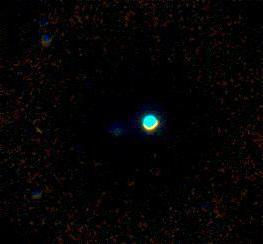star: (23, 116, 53, 146)
